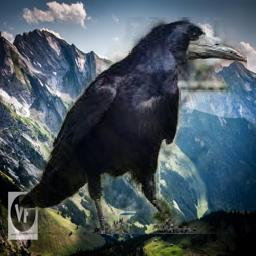Crow: (19, 18, 247, 235)
